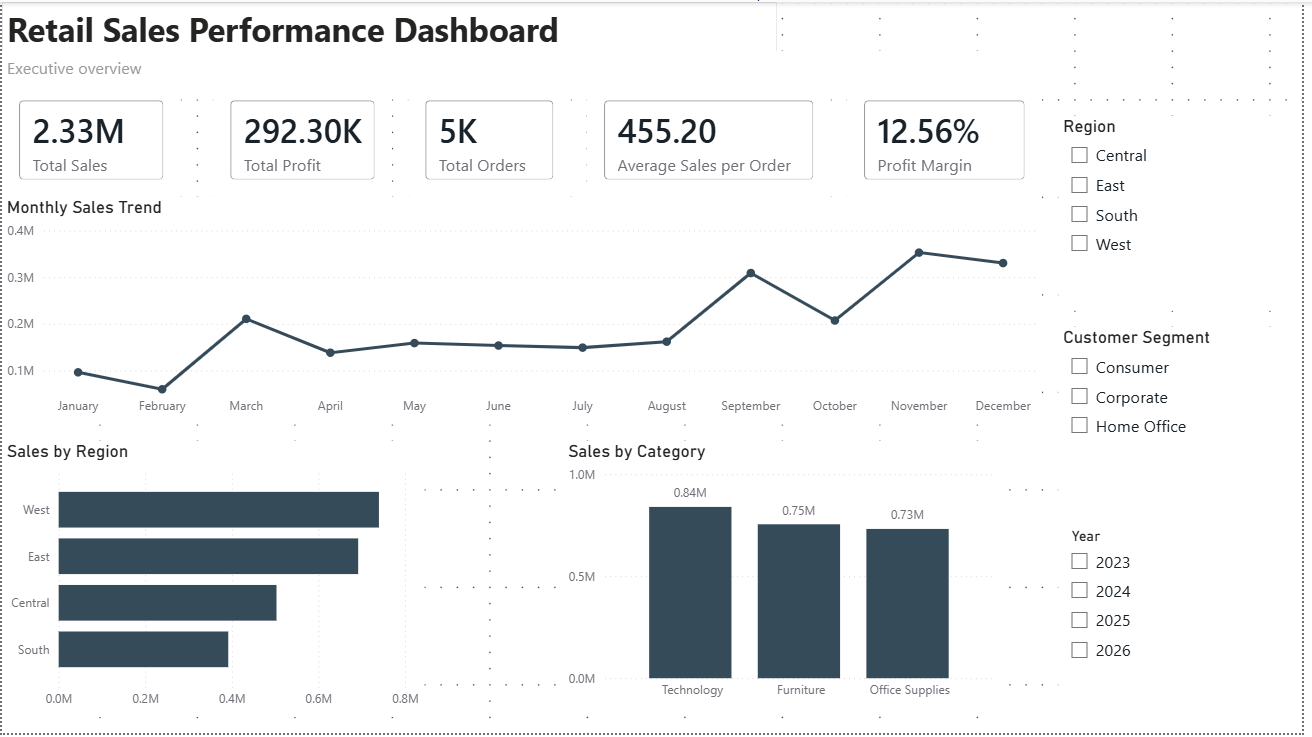

This screenshot's page, from the dashboard's own definition file:
{"tool":"powerbi","page":{"name":"Executive Dashboard","canvas":[1280,720],"ordinal":0},"visuals":[{"type":"cardVisual","fields":{"Data":["Orders.Total Sales"]},"box":[0,80,176,112],"z":0},{"type":"cardVisual","fields":{"Data":["Orders.Total Profit"]},"box":[208,80,176,112],"z":1000},{"type":"cardVisual","fields":{"Data":["Orders.Total Orders"]},"box":[400,80,160,112],"z":2000},{"type":"cardVisual","fields":{"Data":["Orders.Profit Margin"]},"box":[832,80,192,112],"z":3000},{"type":"cardVisual","fields":{"Data":["Orders.Average Sales per Order"]},"box":[576,80,240,112],"z":4000},{"type":"lineChart","title":"Monthly Sales Trend","fields":{"Category":["Orders.Order Date.Variation.Date Hierarchy.Year","Orders.Order Date.Variation.Date Hierarchy.Quarter","Orders.Order Date.Variation.Date Hierarchy.Month","Orders.Order Date.Variation.Date Hierarchy.Day"],"Y":["Orders.Total Sales"]},"box":[0,192,1024,224],"z":5000},{"type":"textbox","box":[0,0,763.6,62.3],"z":6000},{"type":"textbox","box":[0,48,992,48],"z":7000},{"type":"clusteredBarChart","title":"Sales by Region","fields":{"Category":["Orders.Region"],"Y":["Orders.Total Sales"]},"box":[0,432,416,272],"z":8000},{"type":"clusteredColumnChart","title":"Sales by Category","fields":{"Category":["Orders.Category"],"Y":["Orders.Total Sales"]},"box":[552,432,432,264],"z":9000},{"type":"slicer","title":"Region","fields":{"Values":["Orders.Region"]},"box":[1040,112,240,192],"z":10000},{"type":"slicer","title":"Customer Segment","fields":{"Values":["Orders.Segment"]},"box":[1040,320,240,192],"z":11000},{"type":"slicer","fields":{"Values":["Orders.Order Date.Variation.Date Hierarchy.Year"]},"box":[1040,512,240,208],"z":12000}]}

Visuals, with their boxes in screenshot pixels (x1, y1, x2, y2), scaled from the page's 1280x720 canvas onto the 1312x737 screenshot:
cardVisual - Orders.Total Sales: x1=0 y1=82 x2=180 y2=197
cardVisual - Orders.Total Profit: x1=213 y1=82 x2=394 y2=197
cardVisual - Orders.Total Orders: x1=410 y1=82 x2=574 y2=197
cardVisual - Orders.Profit Margin: x1=853 y1=82 x2=1050 y2=197
cardVisual - Orders.Average Sales per Order: x1=590 y1=82 x2=836 y2=197
"Monthly Sales Trend" lineChart: x1=0 y1=197 x2=1050 y2=426
textbox: x1=0 y1=0 x2=783 y2=64
textbox: x1=0 y1=49 x2=1017 y2=98
"Sales by Region" clusteredBarChart: x1=0 y1=442 x2=426 y2=721
"Sales by Category" clusteredColumnChart: x1=566 y1=442 x2=1009 y2=712
"Region" slicer: x1=1066 y1=115 x2=1311 y2=311
"Customer Segment" slicer: x1=1066 y1=328 x2=1311 y2=524
slicer - Orders.Order Date.Variation.Date Hierarchy.Year: x1=1066 y1=524 x2=1311 y2=736
